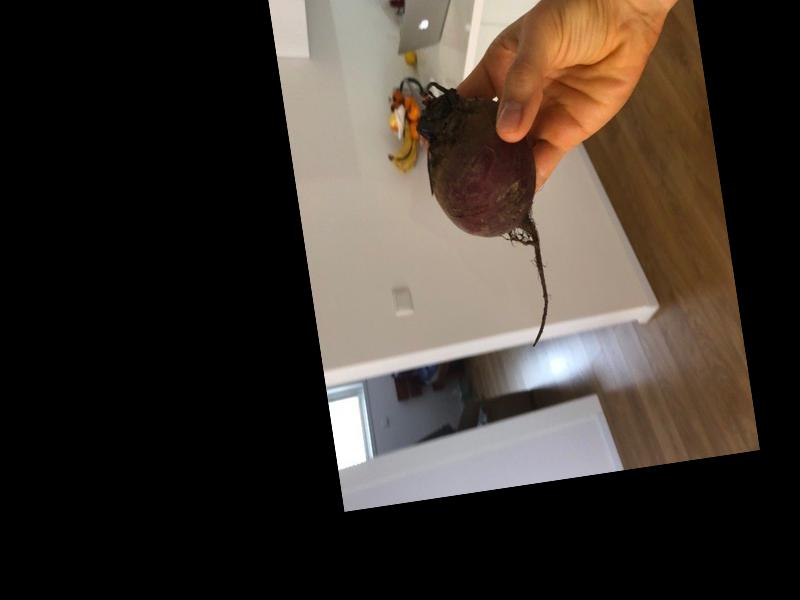Beet: (412, 70, 560, 359)
